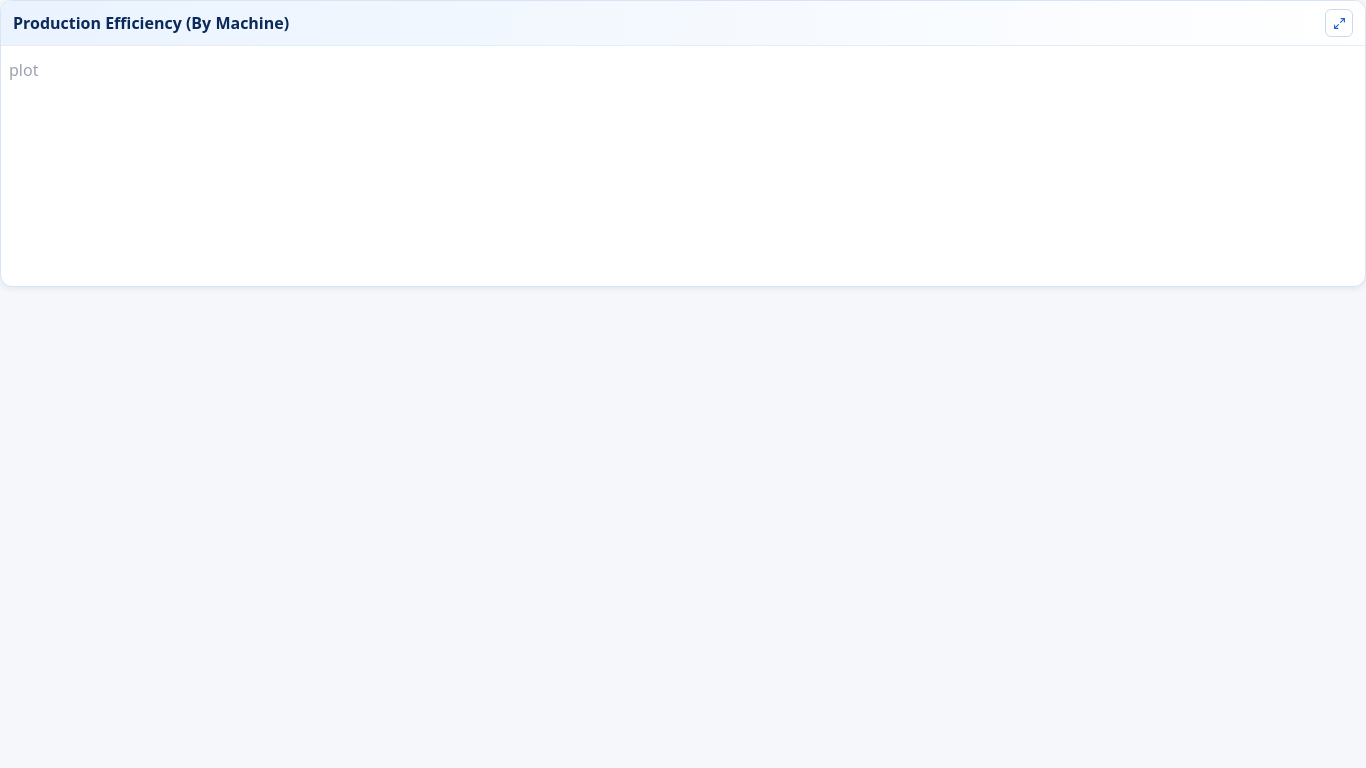
Export (inside the modal) › menu: PNG and Excel, styled like the table Export button
The image size is (1366, 768).
Click the button named "Expand chart".
click(1339, 23)  # box [1325,9,1353,37]
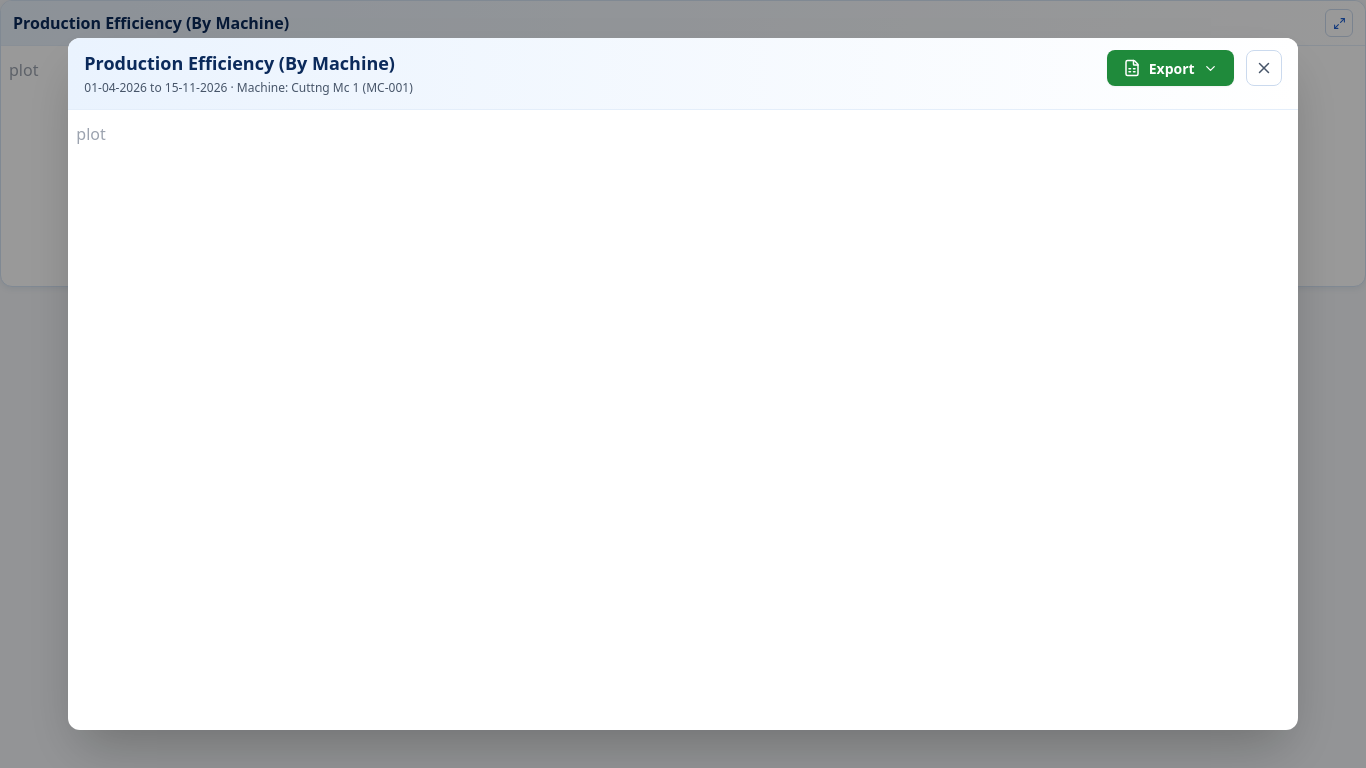
Click the button "Export".
click(1170, 68)  # box [1107,50,1234,86]
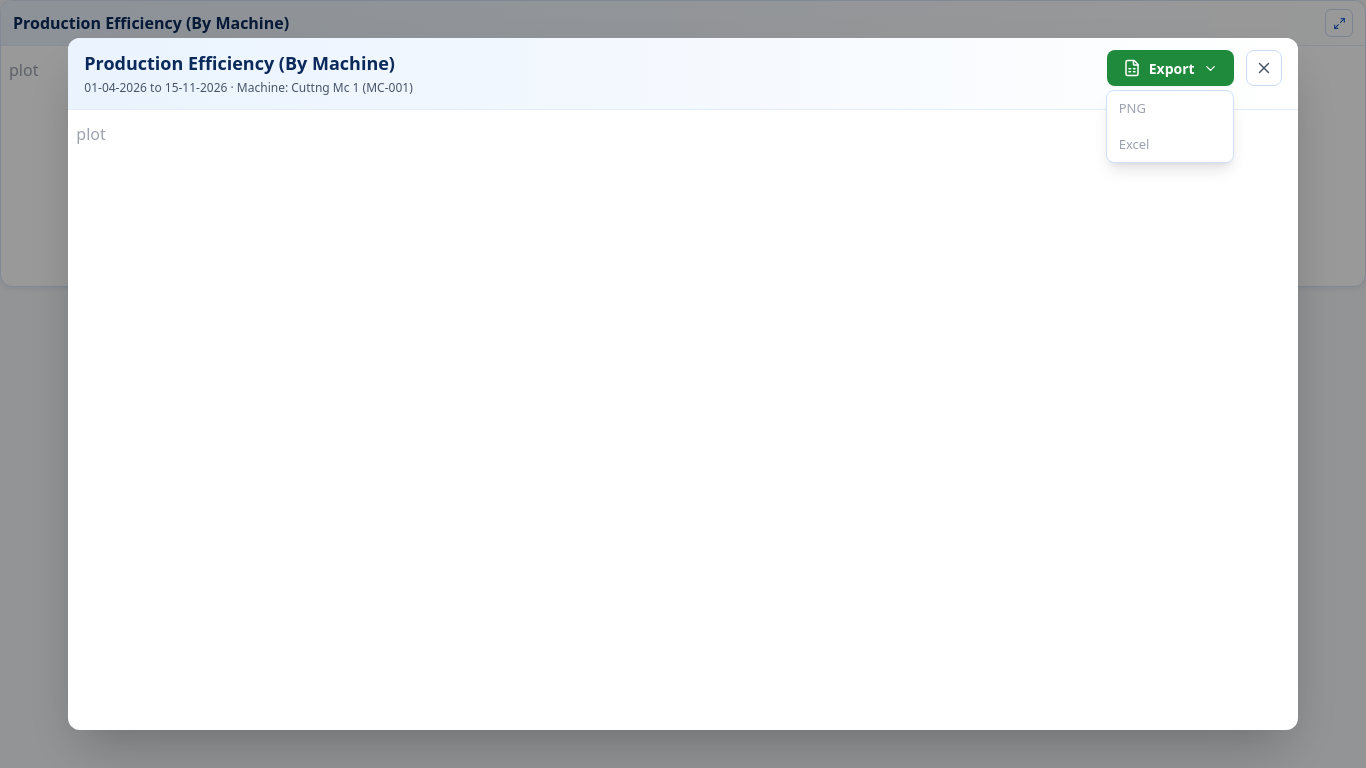
Expected: the menu items read "PNG", "Excel", in this order, [1107,91,1233,127]; [1107,127,1233,162]
